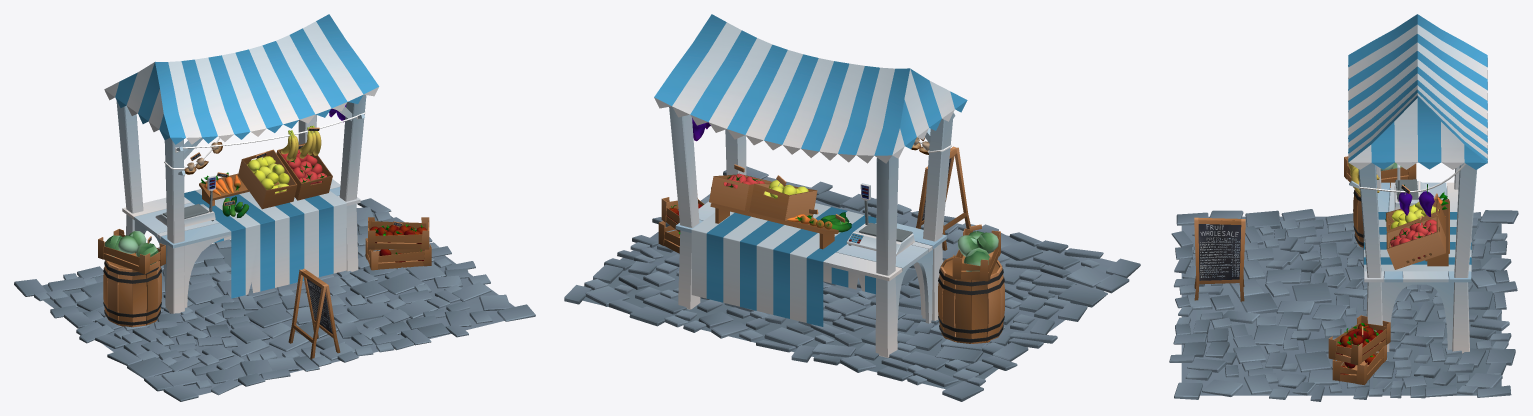
The model's file is MarketStall.fbx.
3 renders of one model, left to right at view 1: azimuth 30°, elevation 25°; view 2: azimuth 150°, elevation 25°; view 3: azimuth 270°, elevation 25°, orthographic. The views are drawn at different scales.
Visible parts, largest first — view 1: CScatter_convert_CScatter_convert_Plane076_Material__133_0.0, Line013_Material__33_0.001, Line013_Material__32_0.001, Box015_Material__19_0.001, Plane019_Material__133_0.001, Line010_Material__33_0.001, Line010_Material__32_0.001, Cylinder001_Material__18_0.001, Box016_Material__19_0.001, Box041_Material__18_0.001, Box017_Material__18_0.001, Box014_Material__18_0.001 (+8 smaller); view 2: CScatter_convert_CScatter_convert_Plane076_Material__133_0.0, Line013_Material__33_0.001, Line013_Material__32_0.001, Box015_Material__19_0.001, Line010_Material__33_0.001, Line010_Material__32_0.001, Plane019_Material__133_0.001, Cylinder001_Material__18_0.001, Box016_Material__19_0.001, Box017_Material__18_0.001, Cylinder006_Material__37_0.001, Box018_Material__18_0.001 (+7 smaller); view 3: CScatter_convert_CScatter_convert_Plane076_Material__133_0.0, Line013_Material__33_0.001, Plane019_Material__133_0.001, Line013_Material__32_0.001, Box015_Material__19_0.001, Box042_Material__34_0.001, Box016_Material__19_0.001, Box018_Material__18_0.001, Line007_Material__19_0.001, Box014_Material__18_0.001, Box041_Material__18_0.001, Box013_Material__18_0.001 (+8 smaller).
Boxes of the visible parts, bbox=[...] form: CScatter_convert_CScatter_convert_Plane076_Material__133_0.0: bbox=[14, 198, 535, 401]; Line013_Material__33_0.001: bbox=[115, 14, 378, 144]; Line013_Material__32_0.001: bbox=[104, 21, 378, 144]; Box015_Material__19_0.001: bbox=[116, 94, 366, 313]; Plane019_Material__133_0.001: bbox=[42, 207, 514, 395]; Line010_Material__33_0.001: bbox=[184, 190, 333, 298]; Line010_Material__32_0.001: bbox=[195, 189, 346, 294]; Cylinder001_Material__18_0.001: bbox=[103, 260, 161, 327]; Box016_Material__19_0.001: bbox=[122, 179, 360, 248]; Box041_Material__18_0.001: bbox=[288, 268, 340, 359]; Box017_Material__18_0.001: bbox=[238, 149, 297, 209]; Box014_Material__18_0.001: bbox=[368, 217, 429, 249]; CScatter_convert_CScatter_convert_Plane076_Material__133_0.0: bbox=[564, 166, 1140, 401]; Line013_Material__33_0.001: bbox=[654, 14, 967, 155]; Line013_Material__32_0.001: bbox=[654, 22, 954, 163]; Box015_Material__19_0.001: bbox=[669, 106, 953, 357]; Line010_Material__33_0.001: bbox=[706, 207, 876, 326]; Line010_Material__32_0.001: bbox=[691, 203, 864, 322]; Plane019_Material__133_0.001: bbox=[583, 177, 1115, 389]; Cylinder001_Material__18_0.001: bbox=[938, 255, 1004, 343]; Box016_Material__19_0.001: bbox=[675, 201, 946, 281]; Box017_Material__18_0.001: bbox=[749, 183, 817, 220]; Cylinder006_Material__37_0.001: bbox=[938, 268, 1004, 342]; Box018_Material__18_0.001: bbox=[709, 174, 771, 210]; CScatter_convert_CScatter_convert_Plane076_Material__133_0.0: bbox=[1169, 209, 1518, 401]; Line013_Material__33_0.001: bbox=[1348, 14, 1487, 169]; Plane019_Material__133_0.001: bbox=[1181, 216, 1501, 395]; Line013_Material__32_0.001: bbox=[1348, 24, 1487, 169]; Box015_Material__19_0.001: bbox=[1358, 162, 1476, 353]; Box042_Material__34_0.001: bbox=[1198, 224, 1241, 280]; Box016_Material__19_0.001: bbox=[1364, 182, 1471, 282]; Box018_Material__18_0.001: bbox=[1386, 216, 1445, 269]; Line007_Material__19_0.001: bbox=[1381, 188, 1453, 351]; Box014_Material__18_0.001: bbox=[1328, 315, 1390, 365]; Box041_Material__18_0.001: bbox=[1194, 217, 1245, 301]; Box013_Material__18_0.001: bbox=[1332, 345, 1386, 385].
Size of the model in its own units: 25498 by 15713 by 19619.
